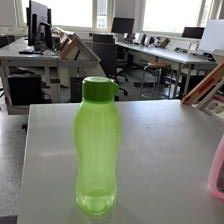bottle: (70, 74, 116, 213)
